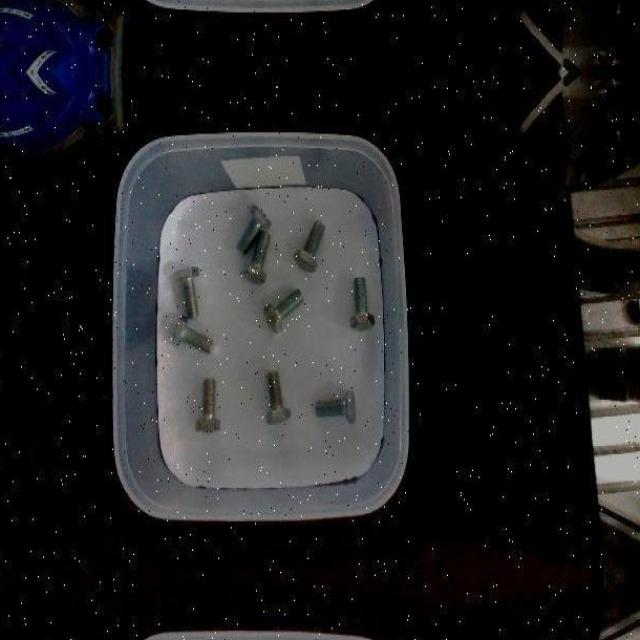screw: (237, 203, 273, 256), (264, 288, 304, 332), (171, 315, 214, 354), (294, 220, 325, 272), (243, 230, 271, 284), (194, 376, 221, 432), (174, 265, 200, 320), (314, 389, 356, 423), (266, 371, 292, 424), (352, 276, 376, 330)
